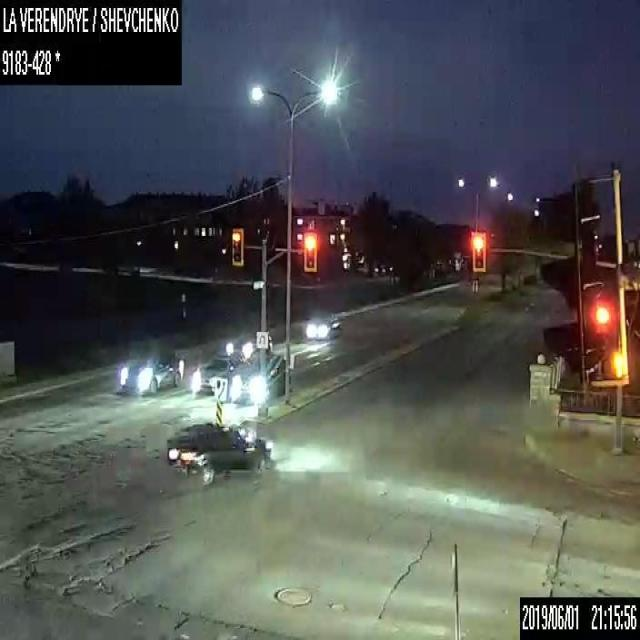vehicle: (165, 418, 272, 486), (115, 350, 183, 396), (231, 352, 285, 403), (194, 349, 245, 394), (225, 328, 272, 360), (305, 314, 340, 342)
